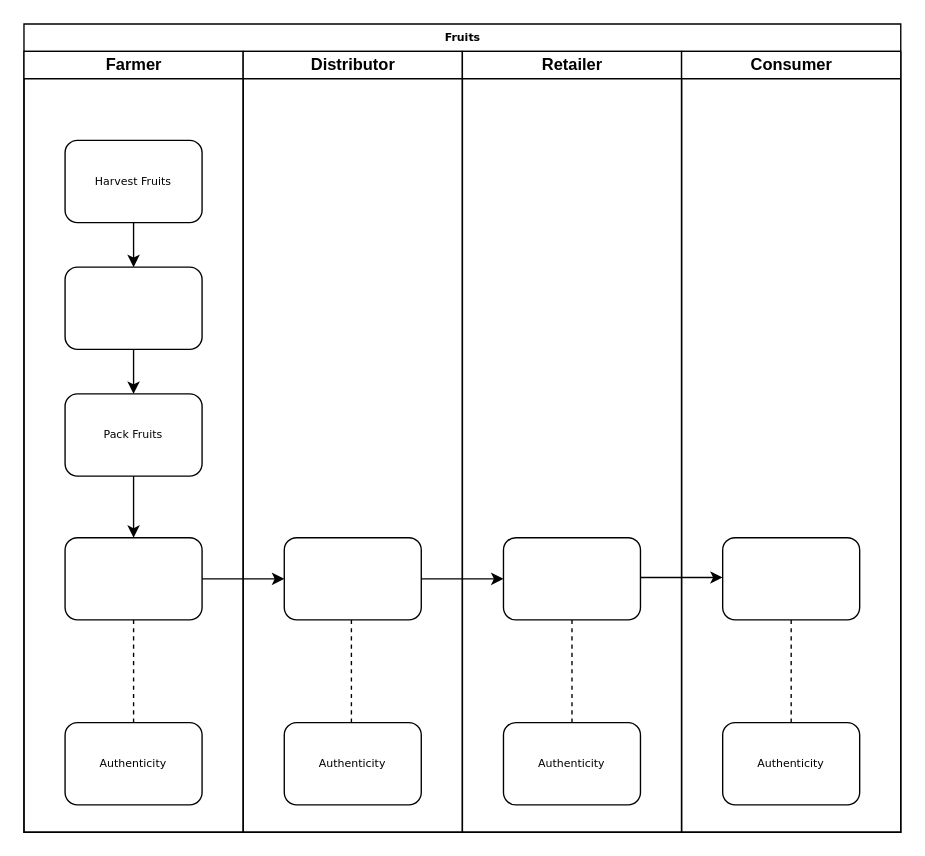
This 925x856 diagram has some shape labels left out. Here are the shapes that lost their labels. From the top down, the centre of each, then its label:
the point at 133,307: Store Fruits
the point at 133,578: Ship Fruits
the point at 352,578: Deliver Fruits
the point at 571,578: Receive Fruits
the point at 790,578: Buy Fruits
